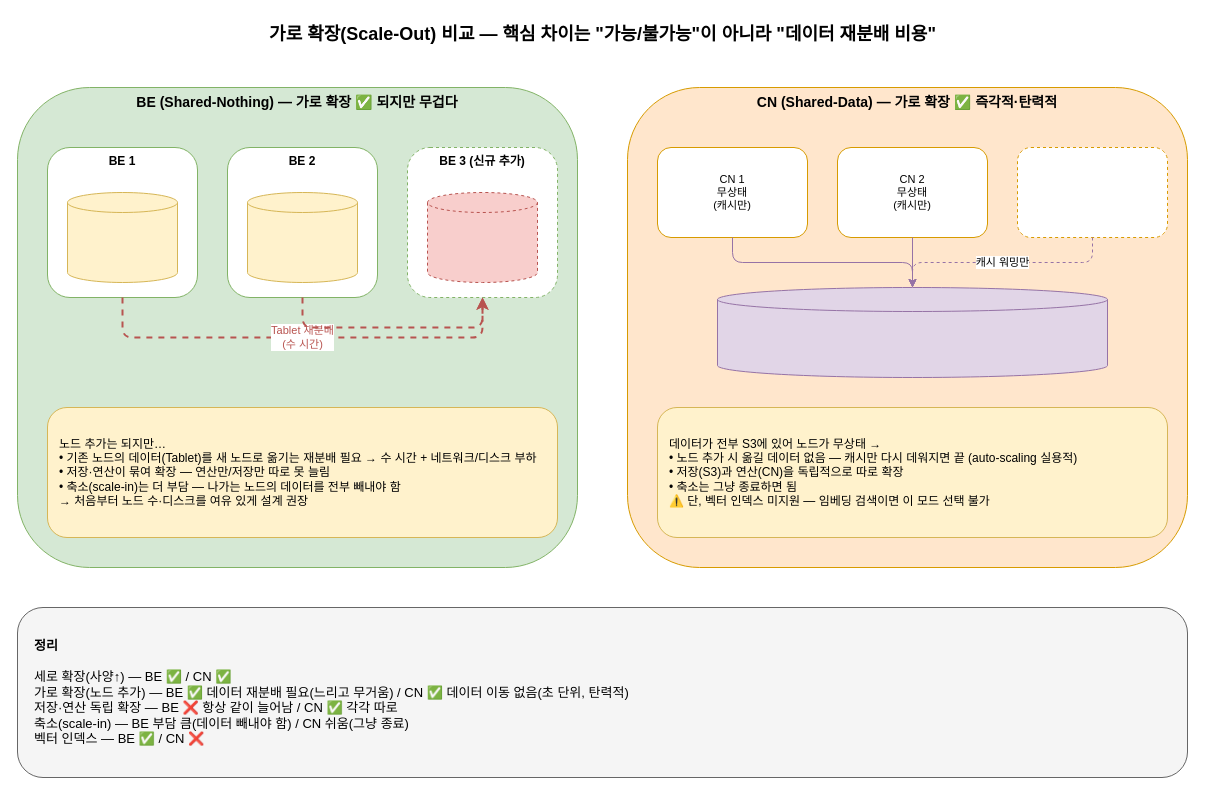
The diagram is 1205 pixels wide and 795 high, and some of its shapes have lost their labels. Each missing label, with the centre of its shape:
CN 3 (신규) 몇 초~몇 분 내 투입 옮길 데이터 없음: [1092,192]
로컬 디스크 (비어 있음 → 채워야 함): [482,237]
로컬 디스크 Tablet 1~50: [122,237]
로컬 디스크 Tablet 51~100: [302,237]
오브젝트 스토리지 (S3 / MinIO ...) — 데이터 단일 사본, 그대로 있음 (사실상 무한 확장): [912,332]
